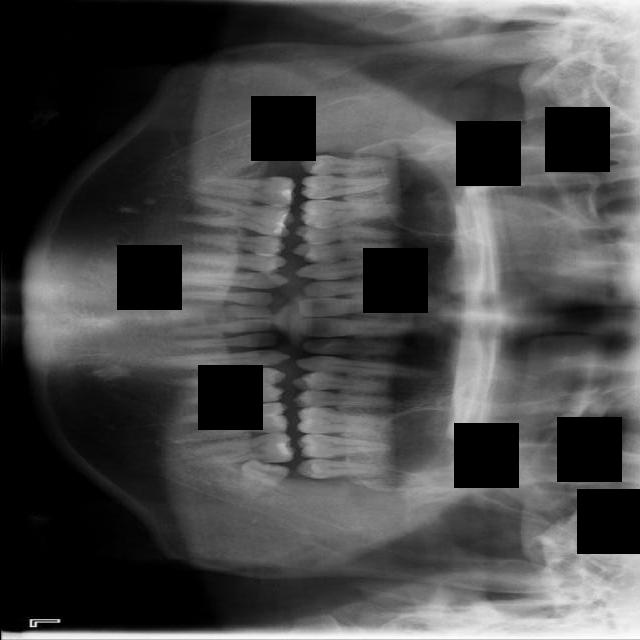3M ESPE Implant: (300, 152, 393, 176)
52: (251, 198, 295, 242), (249, 430, 295, 466), (256, 174, 296, 209)
73: (88, 549, 108, 558)
BioHorizons Implant: (295, 433, 392, 465)
BioLife Implant: (295, 458, 387, 480)
Biomet 3i Implant: (235, 456, 290, 506)
Blue Sky Bio Implant: (189, 431, 296, 469)
Caries: (299, 173, 394, 200)
Implant: (195, 176, 295, 209)
